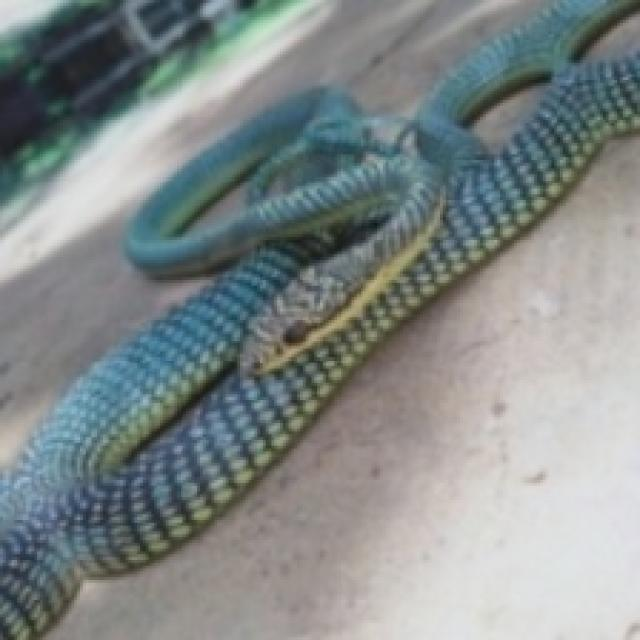paradise tree snake: (46, 134, 637, 637), (0, 0, 543, 463)
